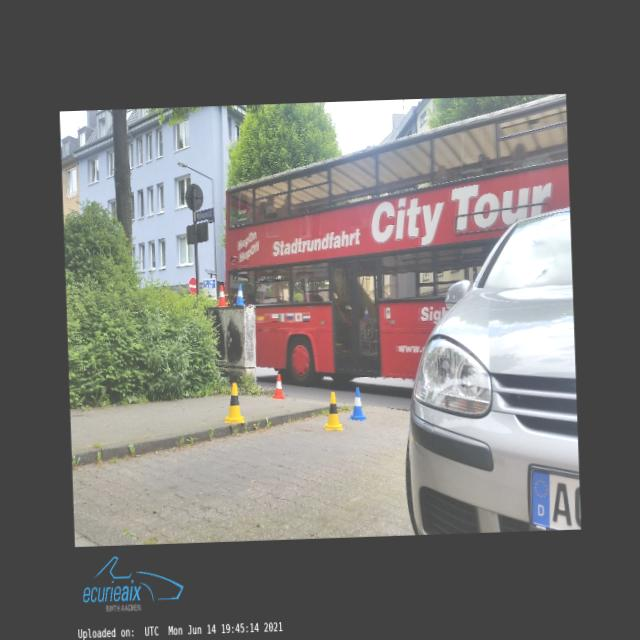blue_cone: (348, 386, 366, 421), (234, 284, 244, 304)
orange_cone: (272, 374, 284, 398), (216, 284, 226, 305)
yellow_cone: (223, 382, 244, 423), (322, 391, 342, 430)
